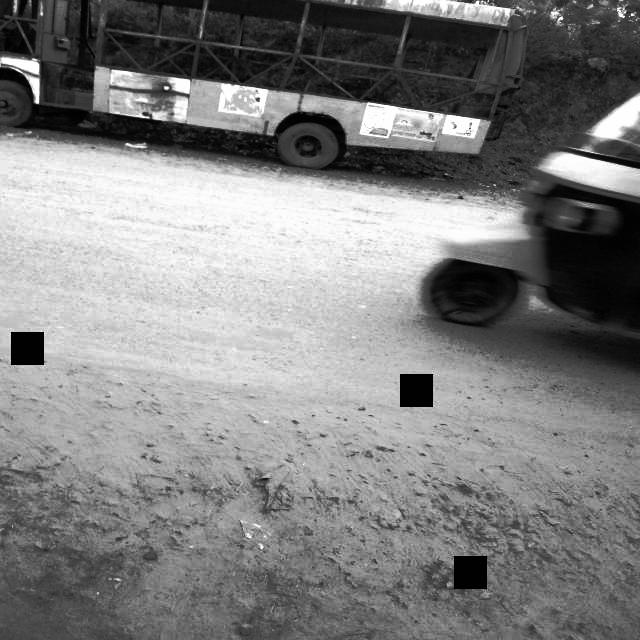Auto-Rickshaw: (414, 84, 640, 332)
